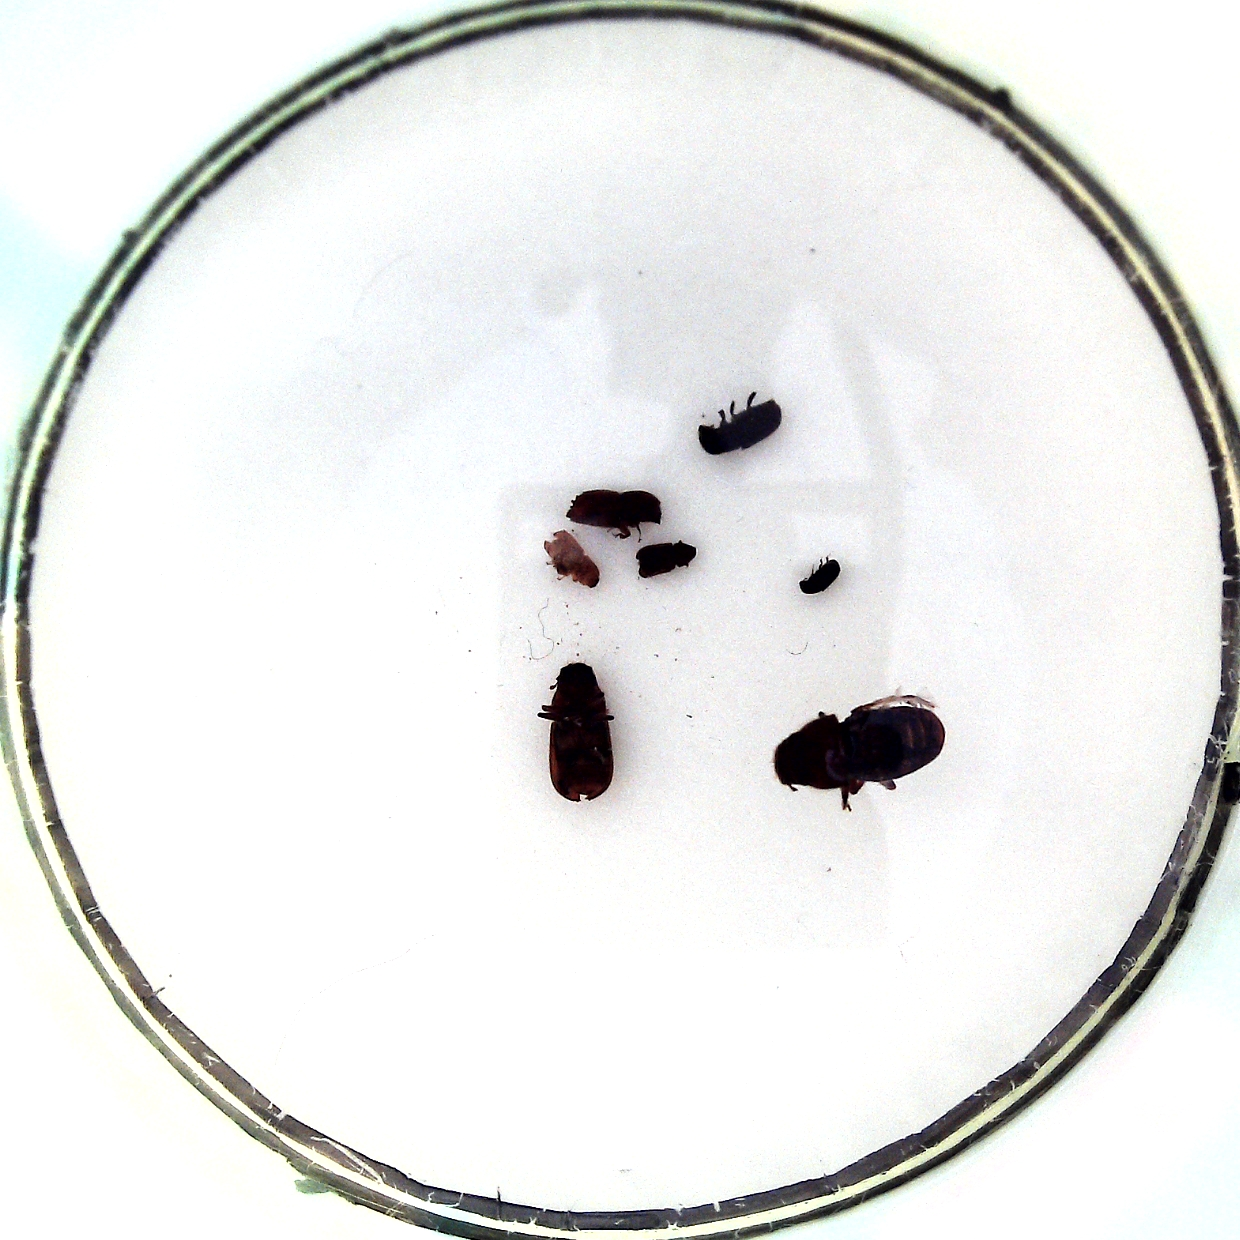Leconte: (774, 706, 945, 791), (548, 663, 614, 802)
acuminatus: (799, 559, 841, 594)
armandi: (697, 397, 784, 456)
coleoptera: (544, 530, 600, 588), (635, 543, 697, 579)
linnaeus: (565, 488, 662, 527)
